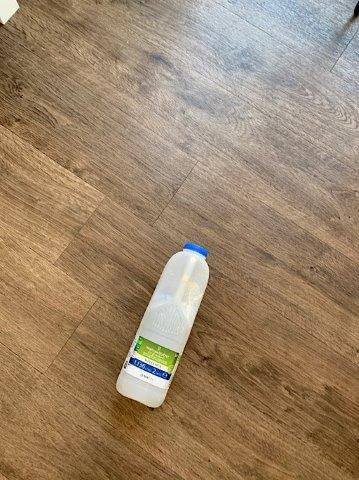botolplastik: (117, 245, 208, 407)
